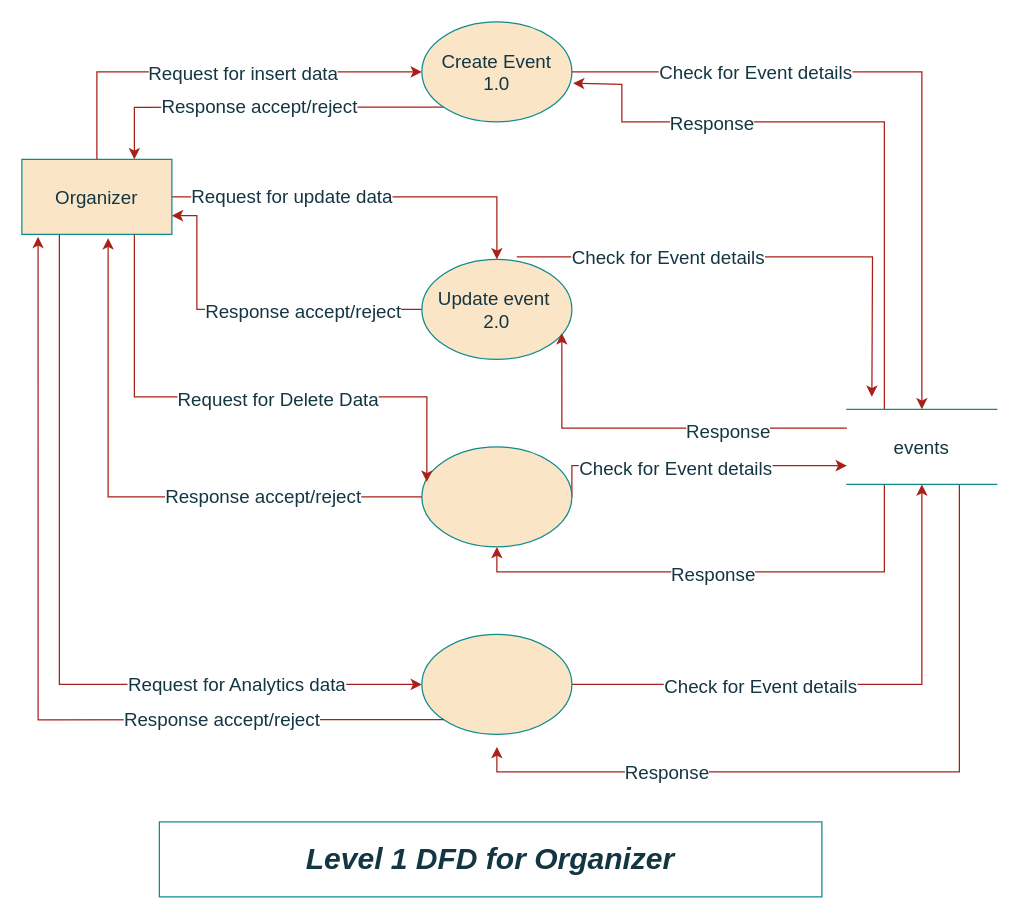
Image size: 1019x919. Some labels were removed from this diagram. Here are the shapes that lost their labels. From the top down, the centre of each, then its label:
point 496,496: Delete event 3.0
point 496,683: Event Analytics 4.0
